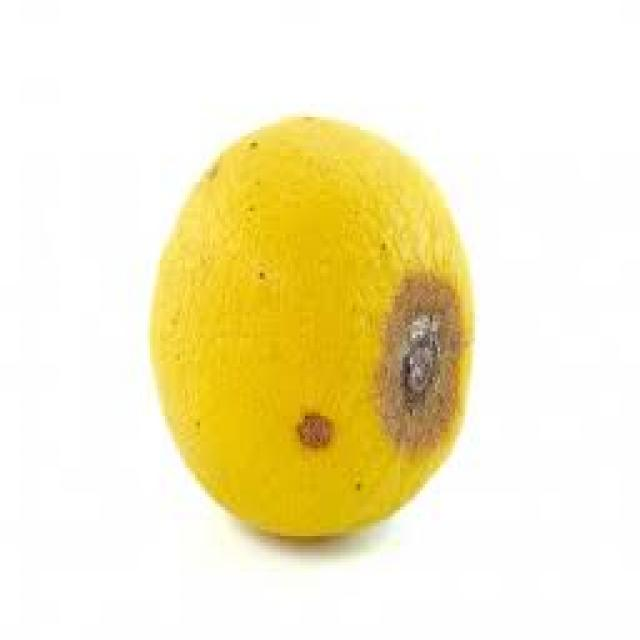organic waste: (150, 110, 470, 540)
